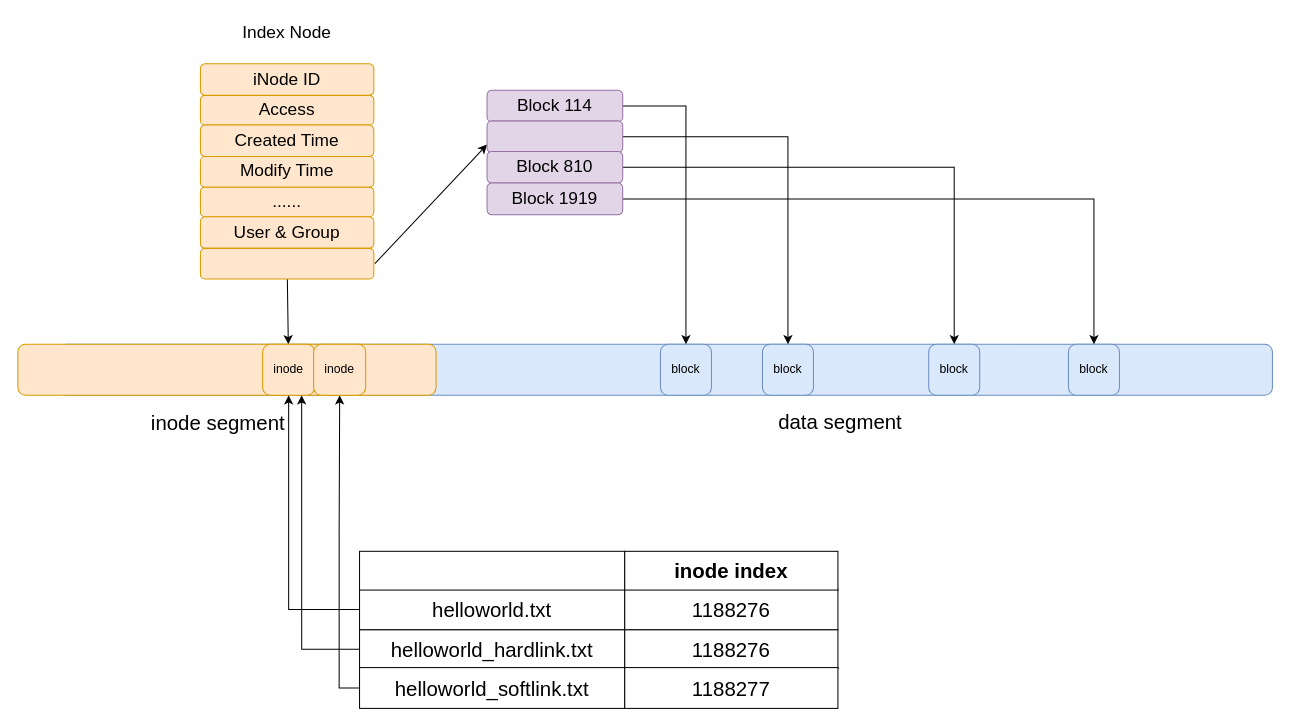
This 1290x726 diagram has some shape labels left out. The centre of each missing label's shape, as x and y in pixels:
"Block 514" belongs at point (554, 136).
"Block Reference" belongs at point (286, 263).
"filename" belongs at point (492, 570).
